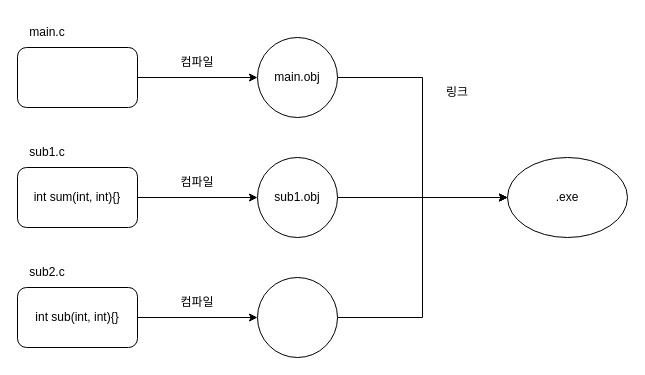
The diagram is 645 pixels wide and 375 high, and some of its shapes have lost their labels. Each missing label, with the box of its shape:
int main(){}: (16, 46, 138, 108)
sub2.obj: (256, 276, 338, 358)
